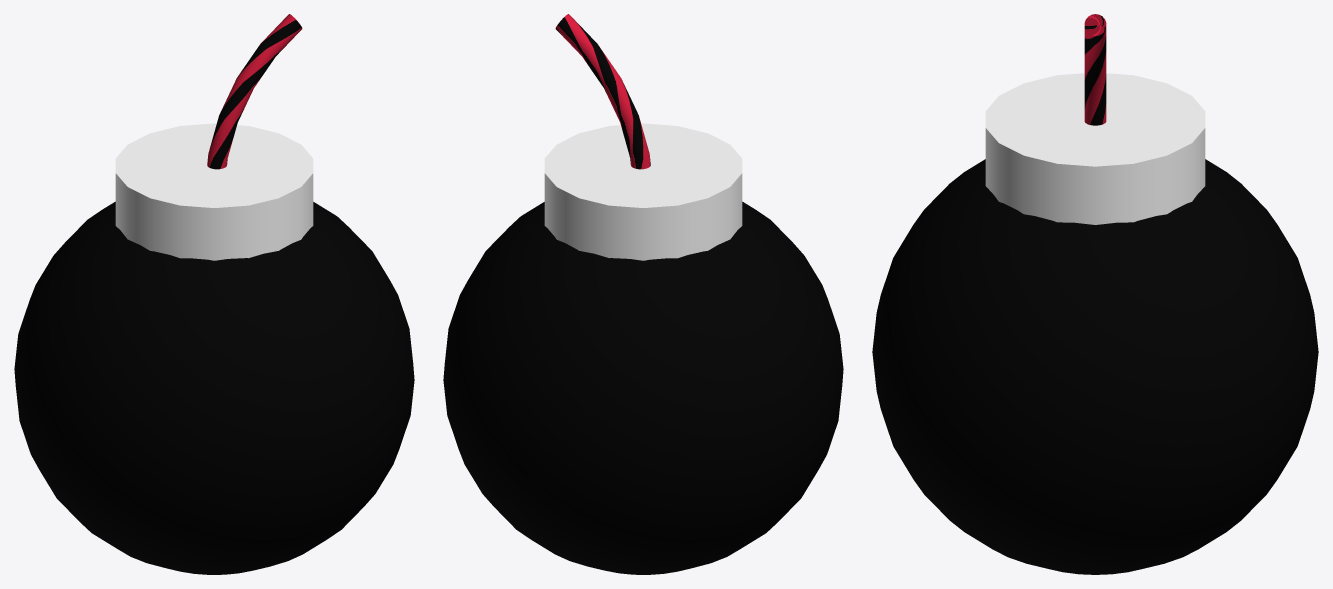
Rendered from bomb.FBX.
3 views of the same model, side by side, from view 1: azimuth 30°, elevation 25°; view 2: azimuth 150°, elevation 25°; view 3: azimuth 270°, elevation 25° (orthographic). The views are drawn at different scales.
Parts seen in each view (by area): view 1: Sphere001, Cylinder001, Cylinder002; view 2: Sphere001, Cylinder001, Cylinder002; view 3: Sphere001, Cylinder001, Cylinder002.
Boxes of the visible parts, <box> form: Sphere001: <box>14,201,414,574</box>; Cylinder001: <box>115,123,313,260</box>; Cylinder002: <box>207,14,302,169</box>; Sphere001: <box>443,201,843,574</box>; Cylinder001: <box>544,123,742,260</box>; Cylinder002: <box>555,14,650,169</box>; Sphere001: <box>872,159,1318,574</box>; Cylinder001: <box>985,73,1205,224</box>; Cylinder002: <box>1084,14,1106,125</box>.
Bounding box in the file's own units: 2 × 2.88 × 2.
3 materials, 3 textured.
